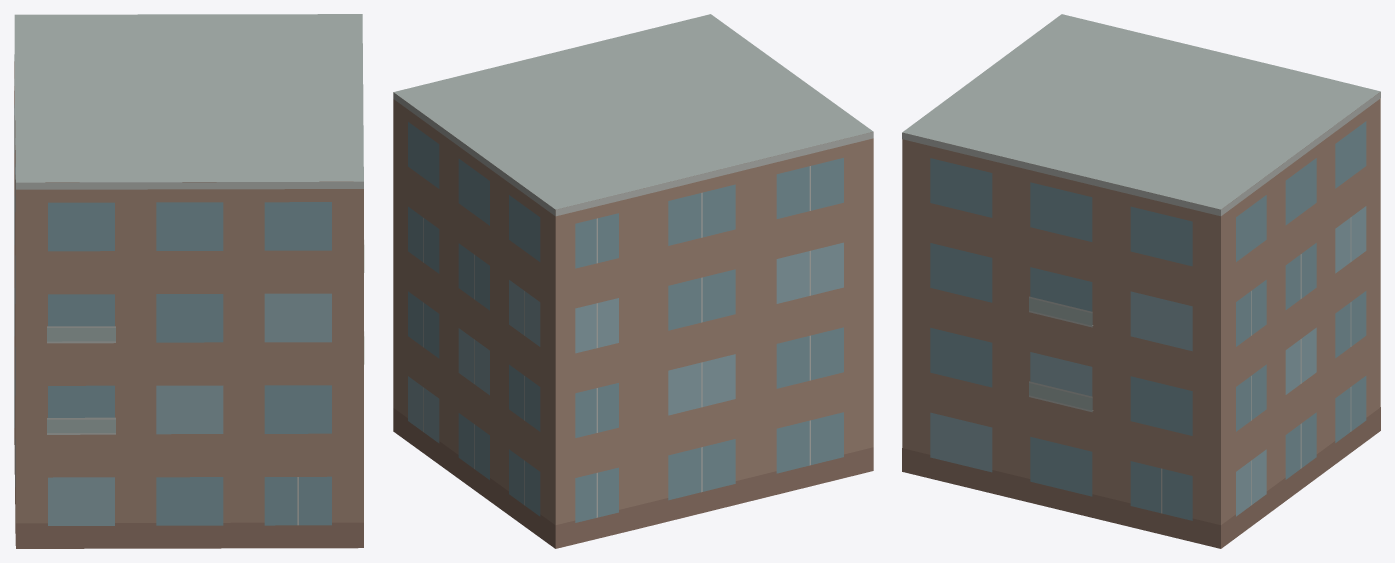
File: survey-upis-32709510.glb
3 renders of one model, left to right at view 1: azimuth 30°, elevation 25°; view 2: azimuth 150°, elevation 25°; view 3: azimuth 270°, elevation 25°, orthographic. The views are drawn at different scales.
Visible parts, largest first — view 1: survey-upis-32709510.tmp; view 2: survey-upis-32709510.tmp; view 3: survey-upis-32709510.tmp.
Part boxes in pixels (bbox=[...]): survey-upis-32709510.tmp: bbox=[14, 14, 364, 548]; survey-upis-32709510.tmp: bbox=[393, 14, 873, 548]; survey-upis-32709510.tmp: bbox=[902, 14, 1380, 548].
Bounding box in the file's own units: 15.18 × 12.27 × 15.7.
